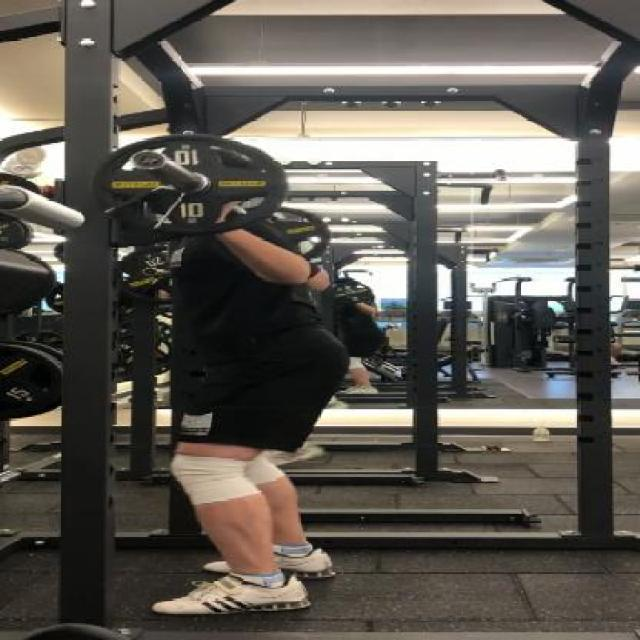barbell: (68, 126, 309, 244)
